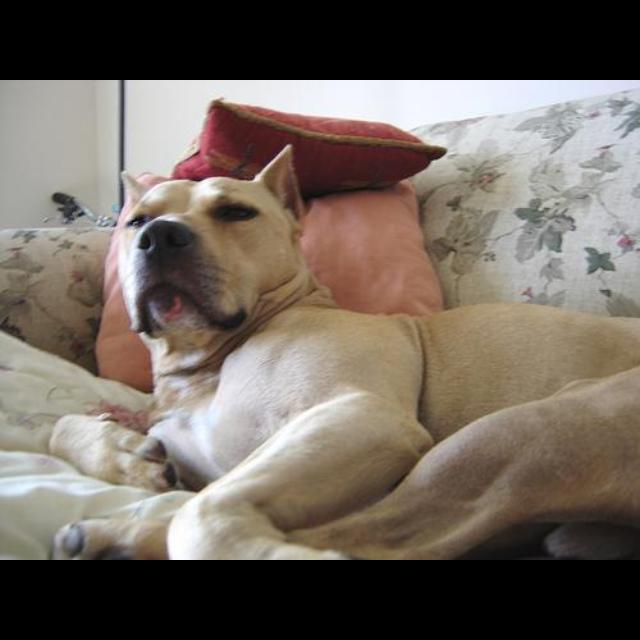amstaff: (49, 144, 640, 560)
